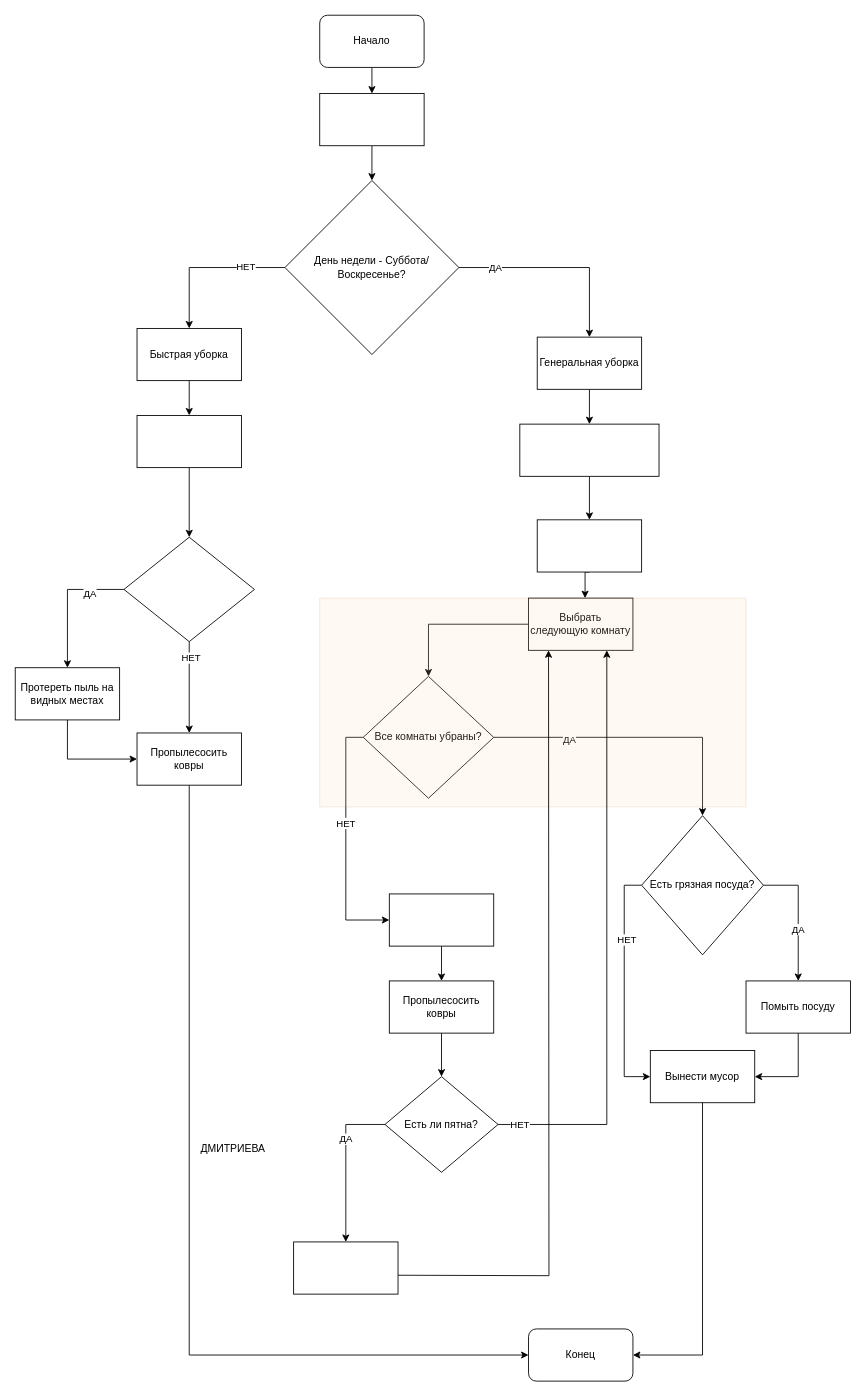
The diagram is 866 pixels wide and 1396 high, and some of its shapes have lost their labels. The shapes that lost their labels are listed below. From the top down, each one's box as (x1, y1, x2, y2) in pixels, then its label:
(319, 93, 424, 146): Оценить масштаб беспорядка
(136, 415, 241, 468): Собрать и разложить вещи по местам
(519, 423, 659, 476): Собрать разбросанные вещи и разложить по местам
(536, 519, 642, 572): Собрать разбросанные вещи в комнатах
(123, 536, 254, 642): Есть ли пыль?
(388, 893, 494, 946): Протереть пыль на всех поверхностях
(293, 1241, 398, 1294): Помыть полы
